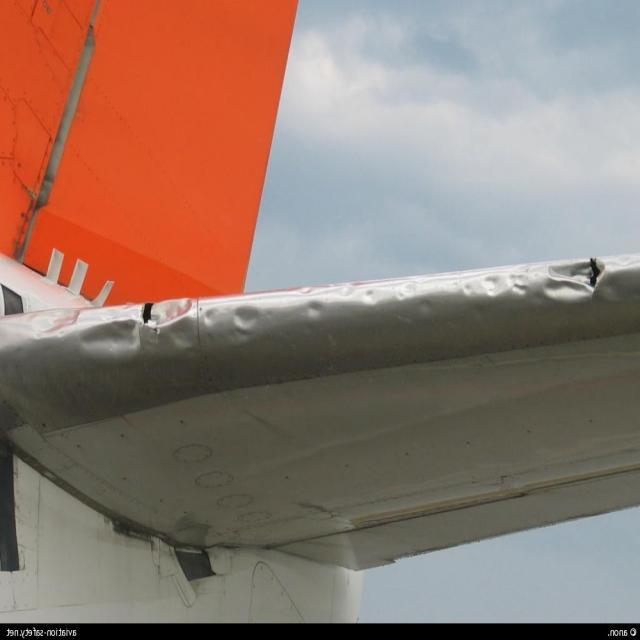Dent: (22, 256, 606, 370)
